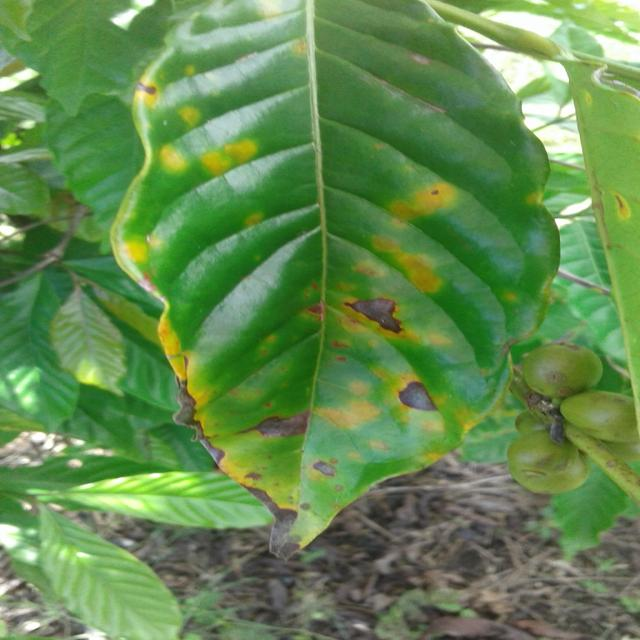Enfermedad-Roya: (109, 0, 561, 550)
